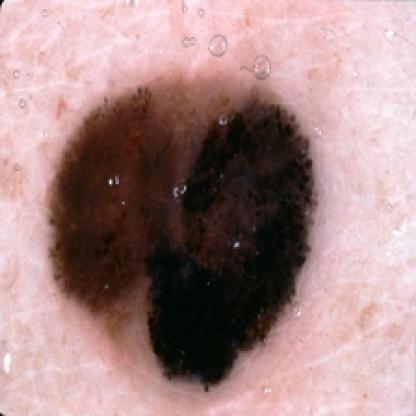malignant: (46, 65, 348, 381)
